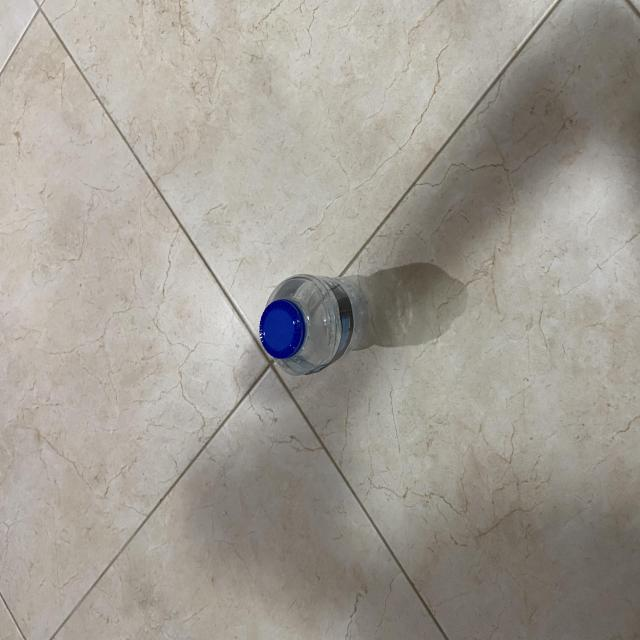bottle: (253, 260, 374, 386)
